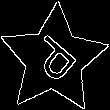P_SE: (23, 29, 84, 90)
